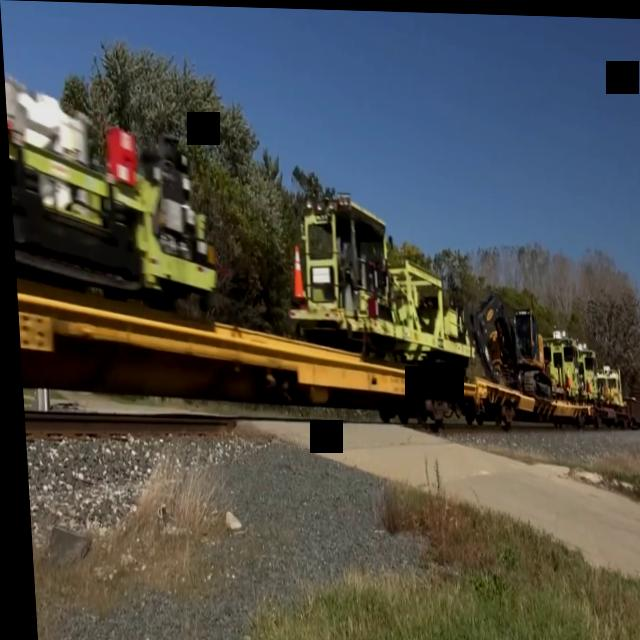cargo: (1, 24, 218, 330), (275, 183, 475, 385), (464, 285, 550, 400), (539, 322, 579, 404)
flatcar: (12, 261, 533, 442)
